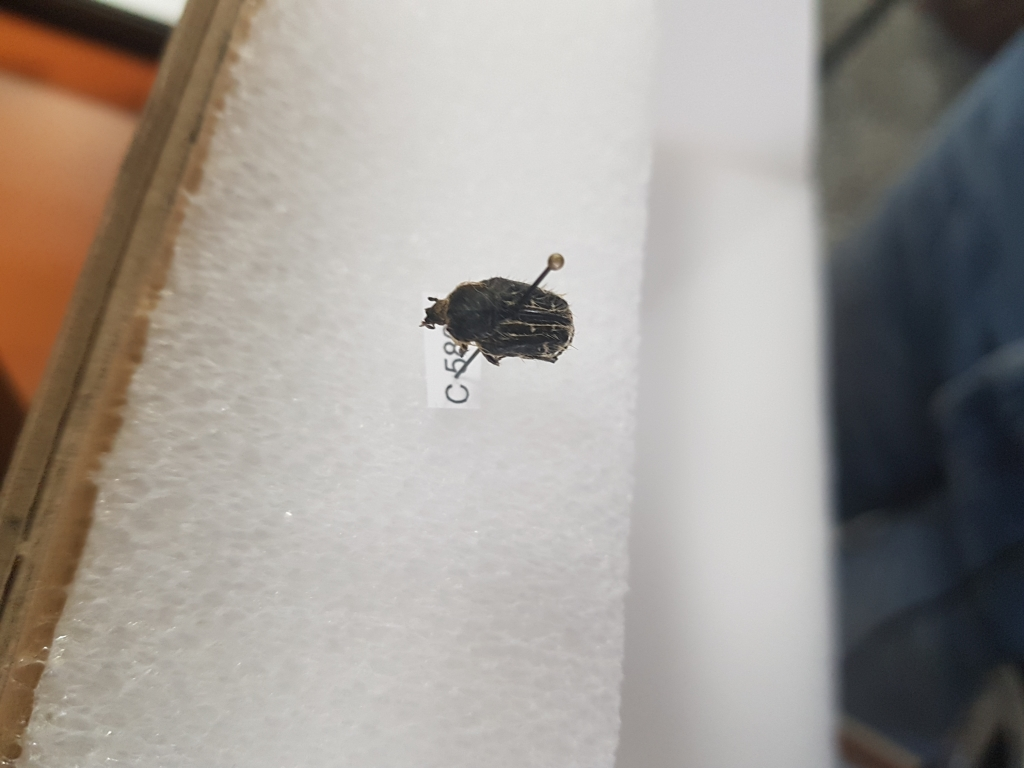Tropinota_hirta: (415, 272, 598, 376)
